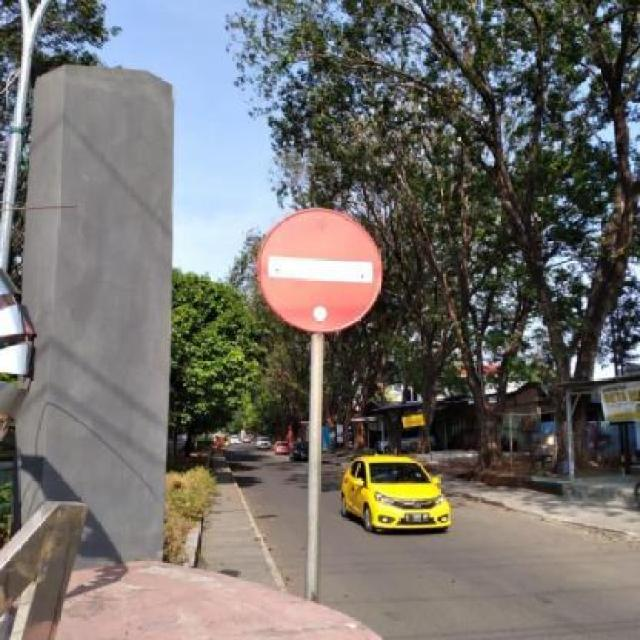no entry: (256, 206, 384, 336)
